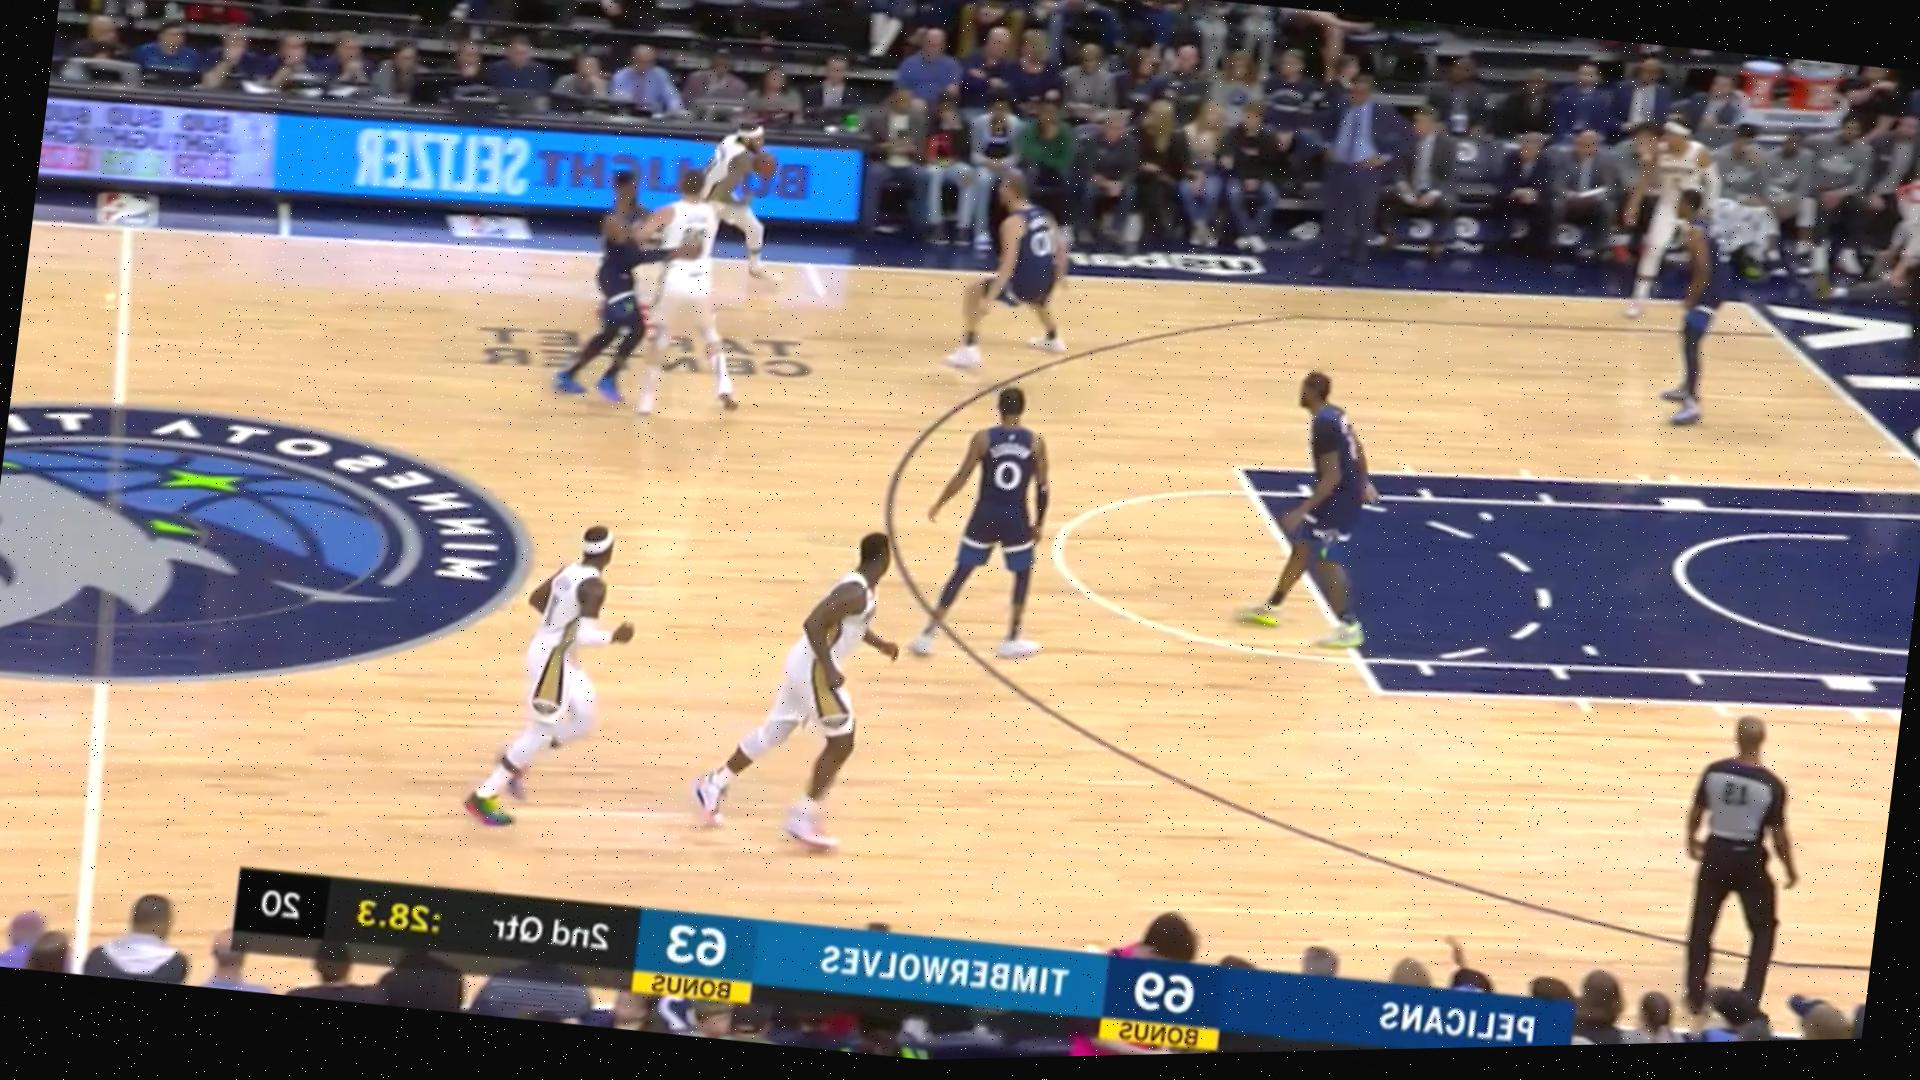no_foul: (566, 151, 724, 407)
